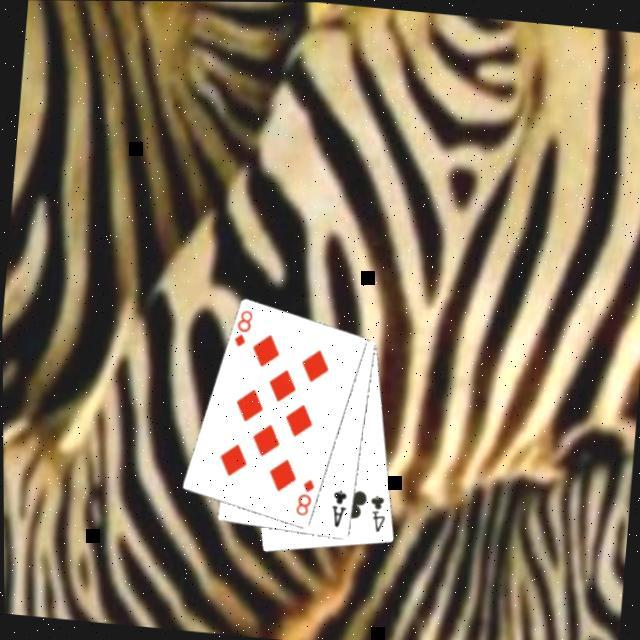4C: (364, 492, 390, 536)
8D: (292, 474, 318, 520), (230, 306, 256, 351)
AC: (327, 487, 351, 531)
